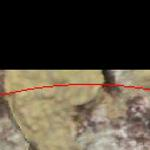alive: (8, 74, 146, 147)
